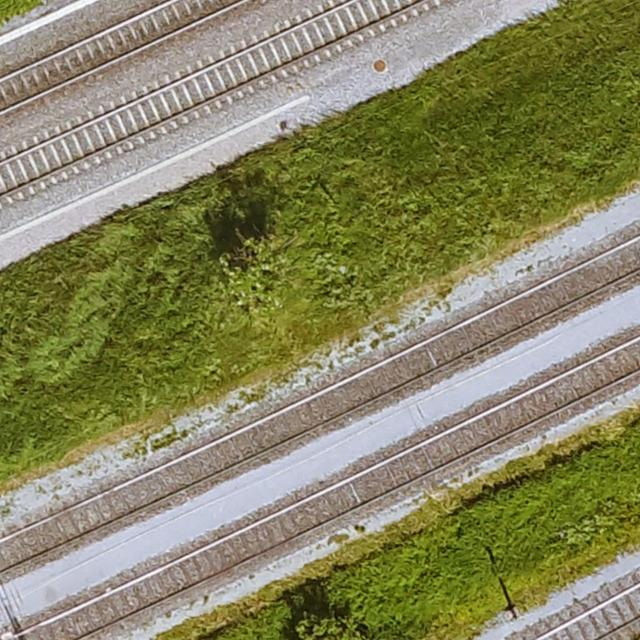tree: (222, 238, 280, 306), (288, 618, 379, 640)
